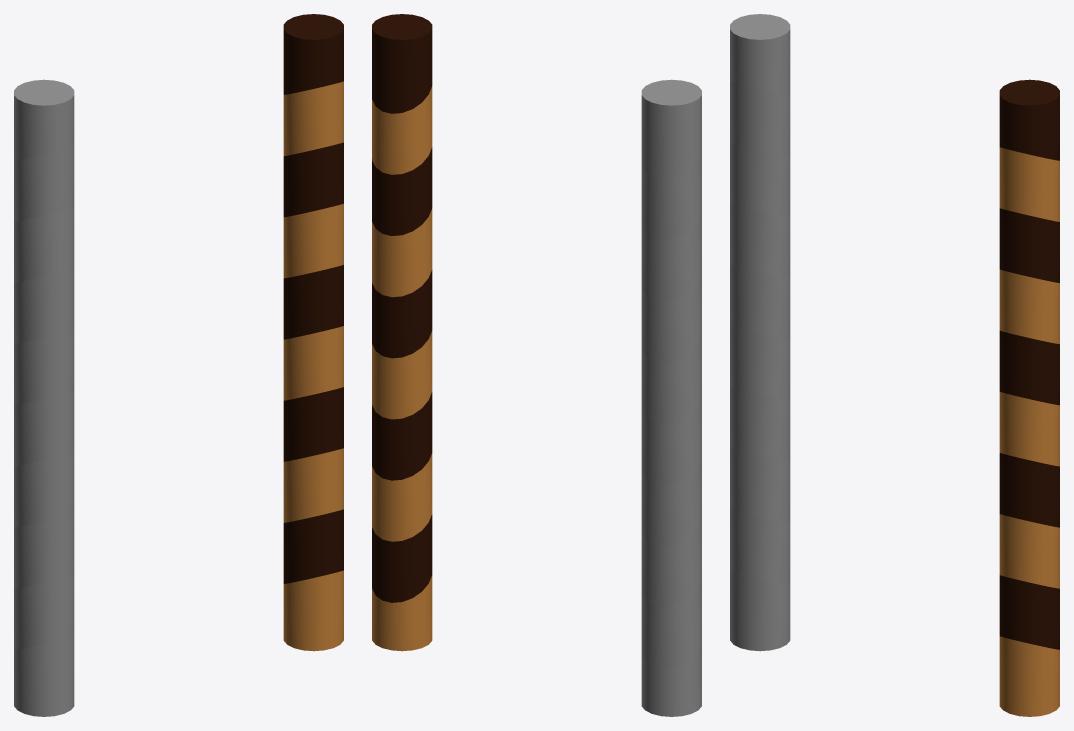
Rendered from prison_snack.FBX.
The picture shows the model from 3 angles, left to right: view 1: azimuth 30°, elevation 25°; view 2: azimuth 150°, elevation 25°; view 3: azimuth 330°, elevation 25°; orthographic projection.
Parts seen in each view (by area): view 1: Object, Cylinder002; view 2: Object, Cylinder002; view 3: Object, Cylinder002.
Part boxes in pixels (<box>): Object: <box>283,14,343,651</box>; Cylinder002: <box>14,79,74,716</box>; Object: <box>372,14,432,651</box>; Cylinder002: <box>641,79,701,716</box>; Object: <box>999,79,1059,716</box>; Cylinder002: <box>730,14,790,651</box>.
Size of the model in its own units: 136 by 247 by 22.11.
